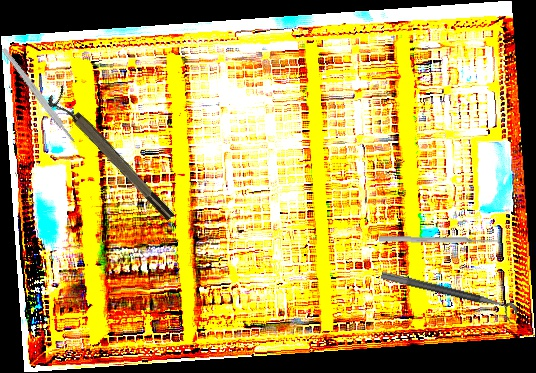Fixation Ring: (44, 84, 178, 229), (377, 270, 520, 325)
Pusher: (378, 234, 501, 246)
Scalpel Handle: (0, 46, 77, 145)
